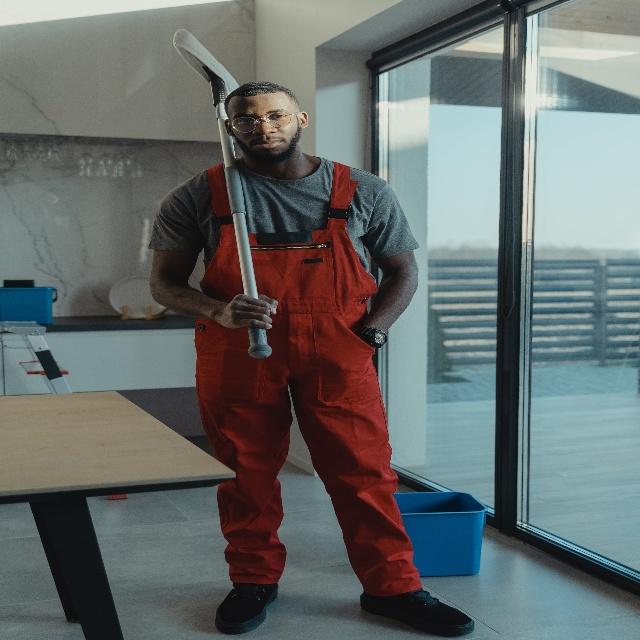Gafas: (228, 111, 301, 133)
Sin_guantes: (217, 293, 278, 329)
